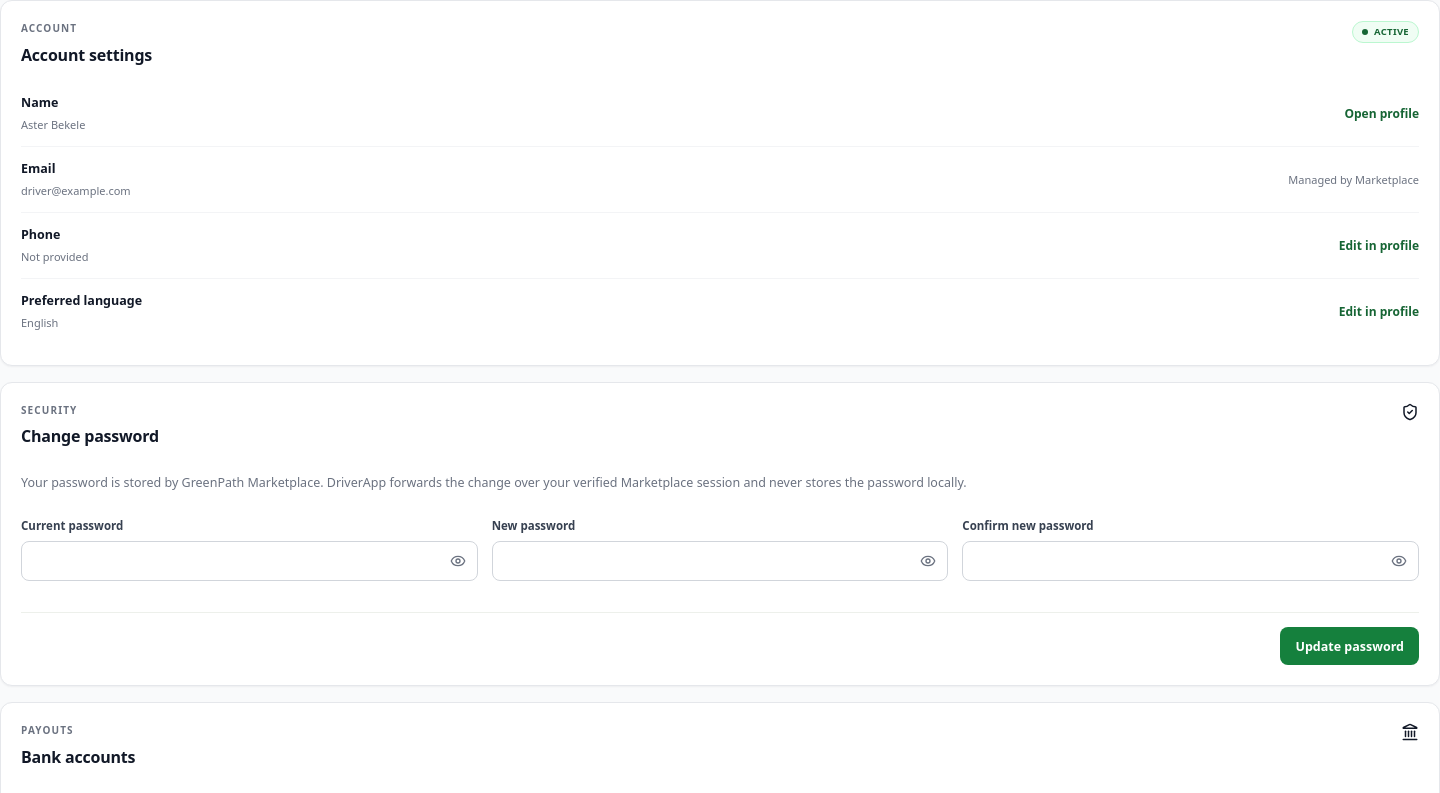
Scenario: Driver settings › changes the password only when the confirmation matches
This screenshot has width=1440, height=793.
Type "existing-password" into the password field labelled "Current password" at (249, 561), box top-left (21, 541), bottom-right (478, 581)
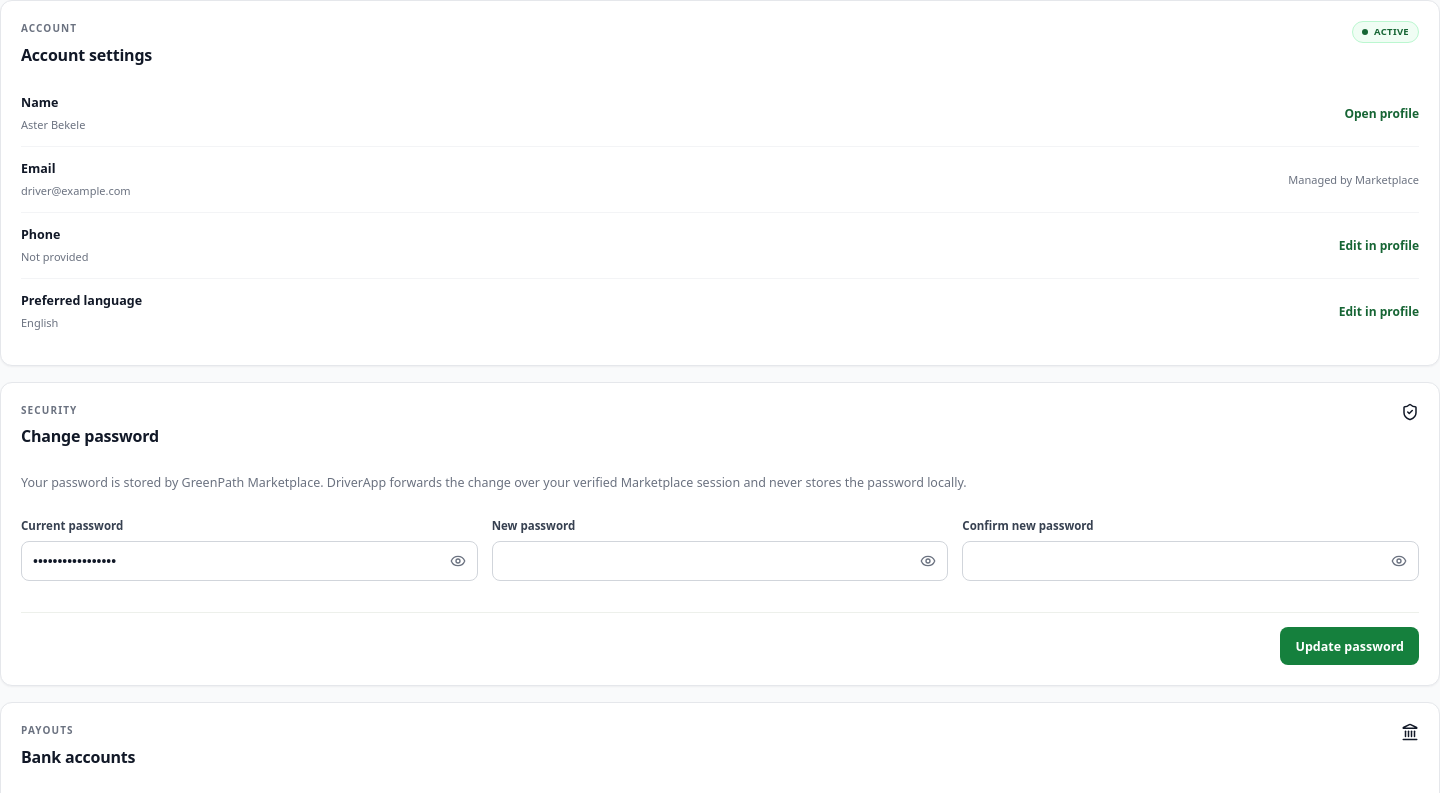
Type "new-password-123" into the password field labelled "New password" at (720, 561), box top-left (492, 541), bottom-right (948, 581)
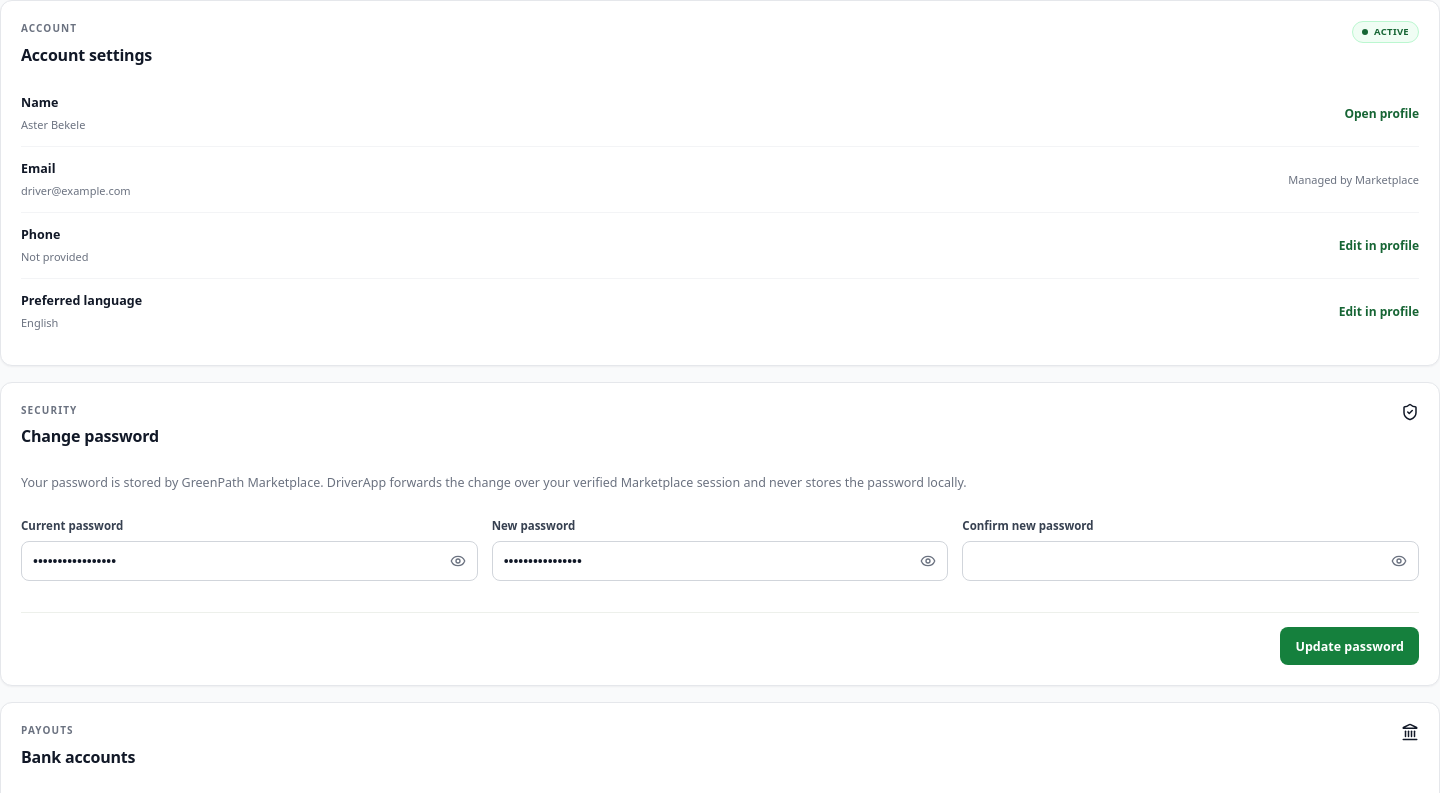
Type "new-password-123" into the password field labelled "Confirm new password" at (1191, 561), box top-left (962, 541), bottom-right (1419, 581)
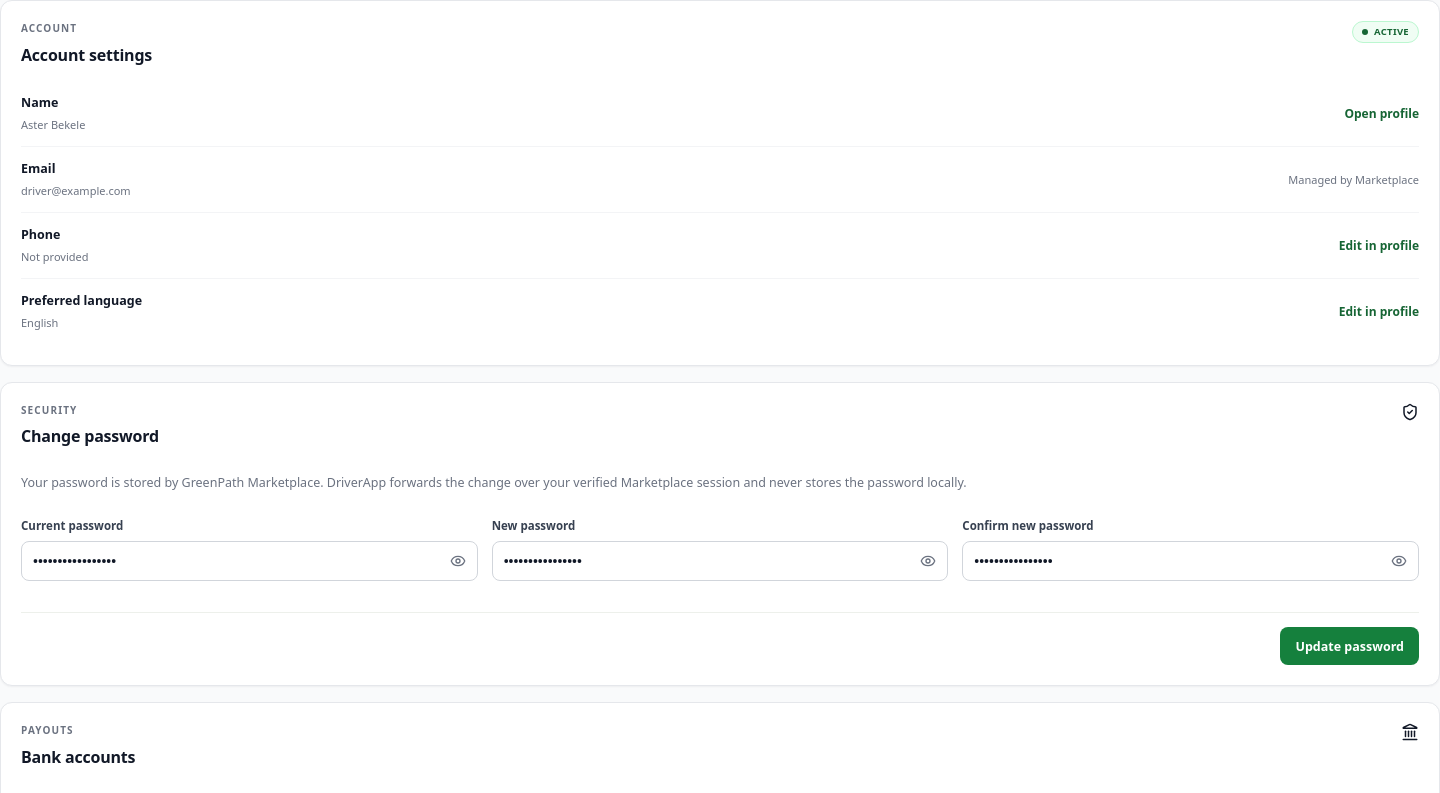
Click the button "Update password" at (1350, 646), box top-left (1280, 627), bottom-right (1419, 665)
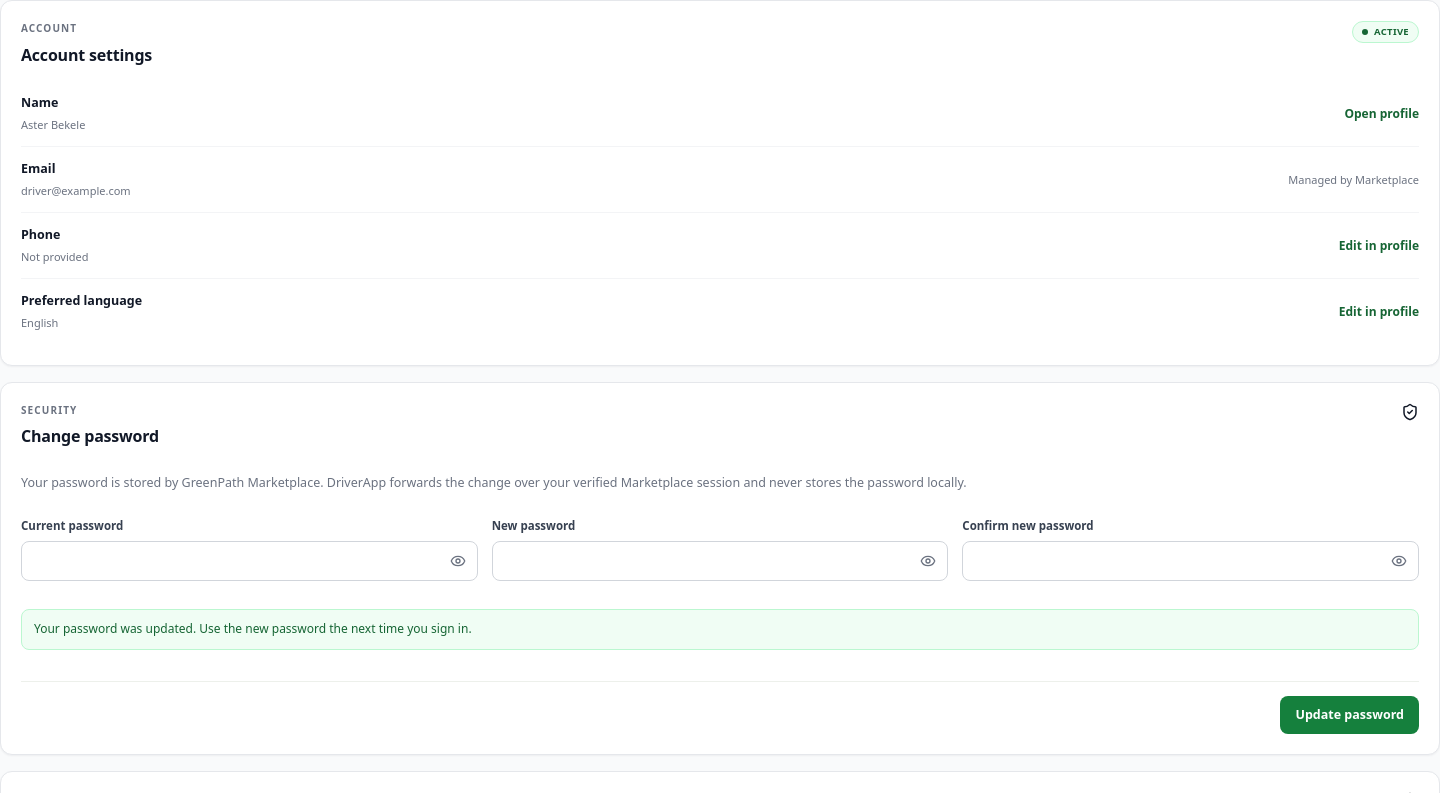
Expected: the text "Your password was updated. Use the new password the next time you sign in." is shown, top-left (21, 609), bottom-right (1419, 650)
